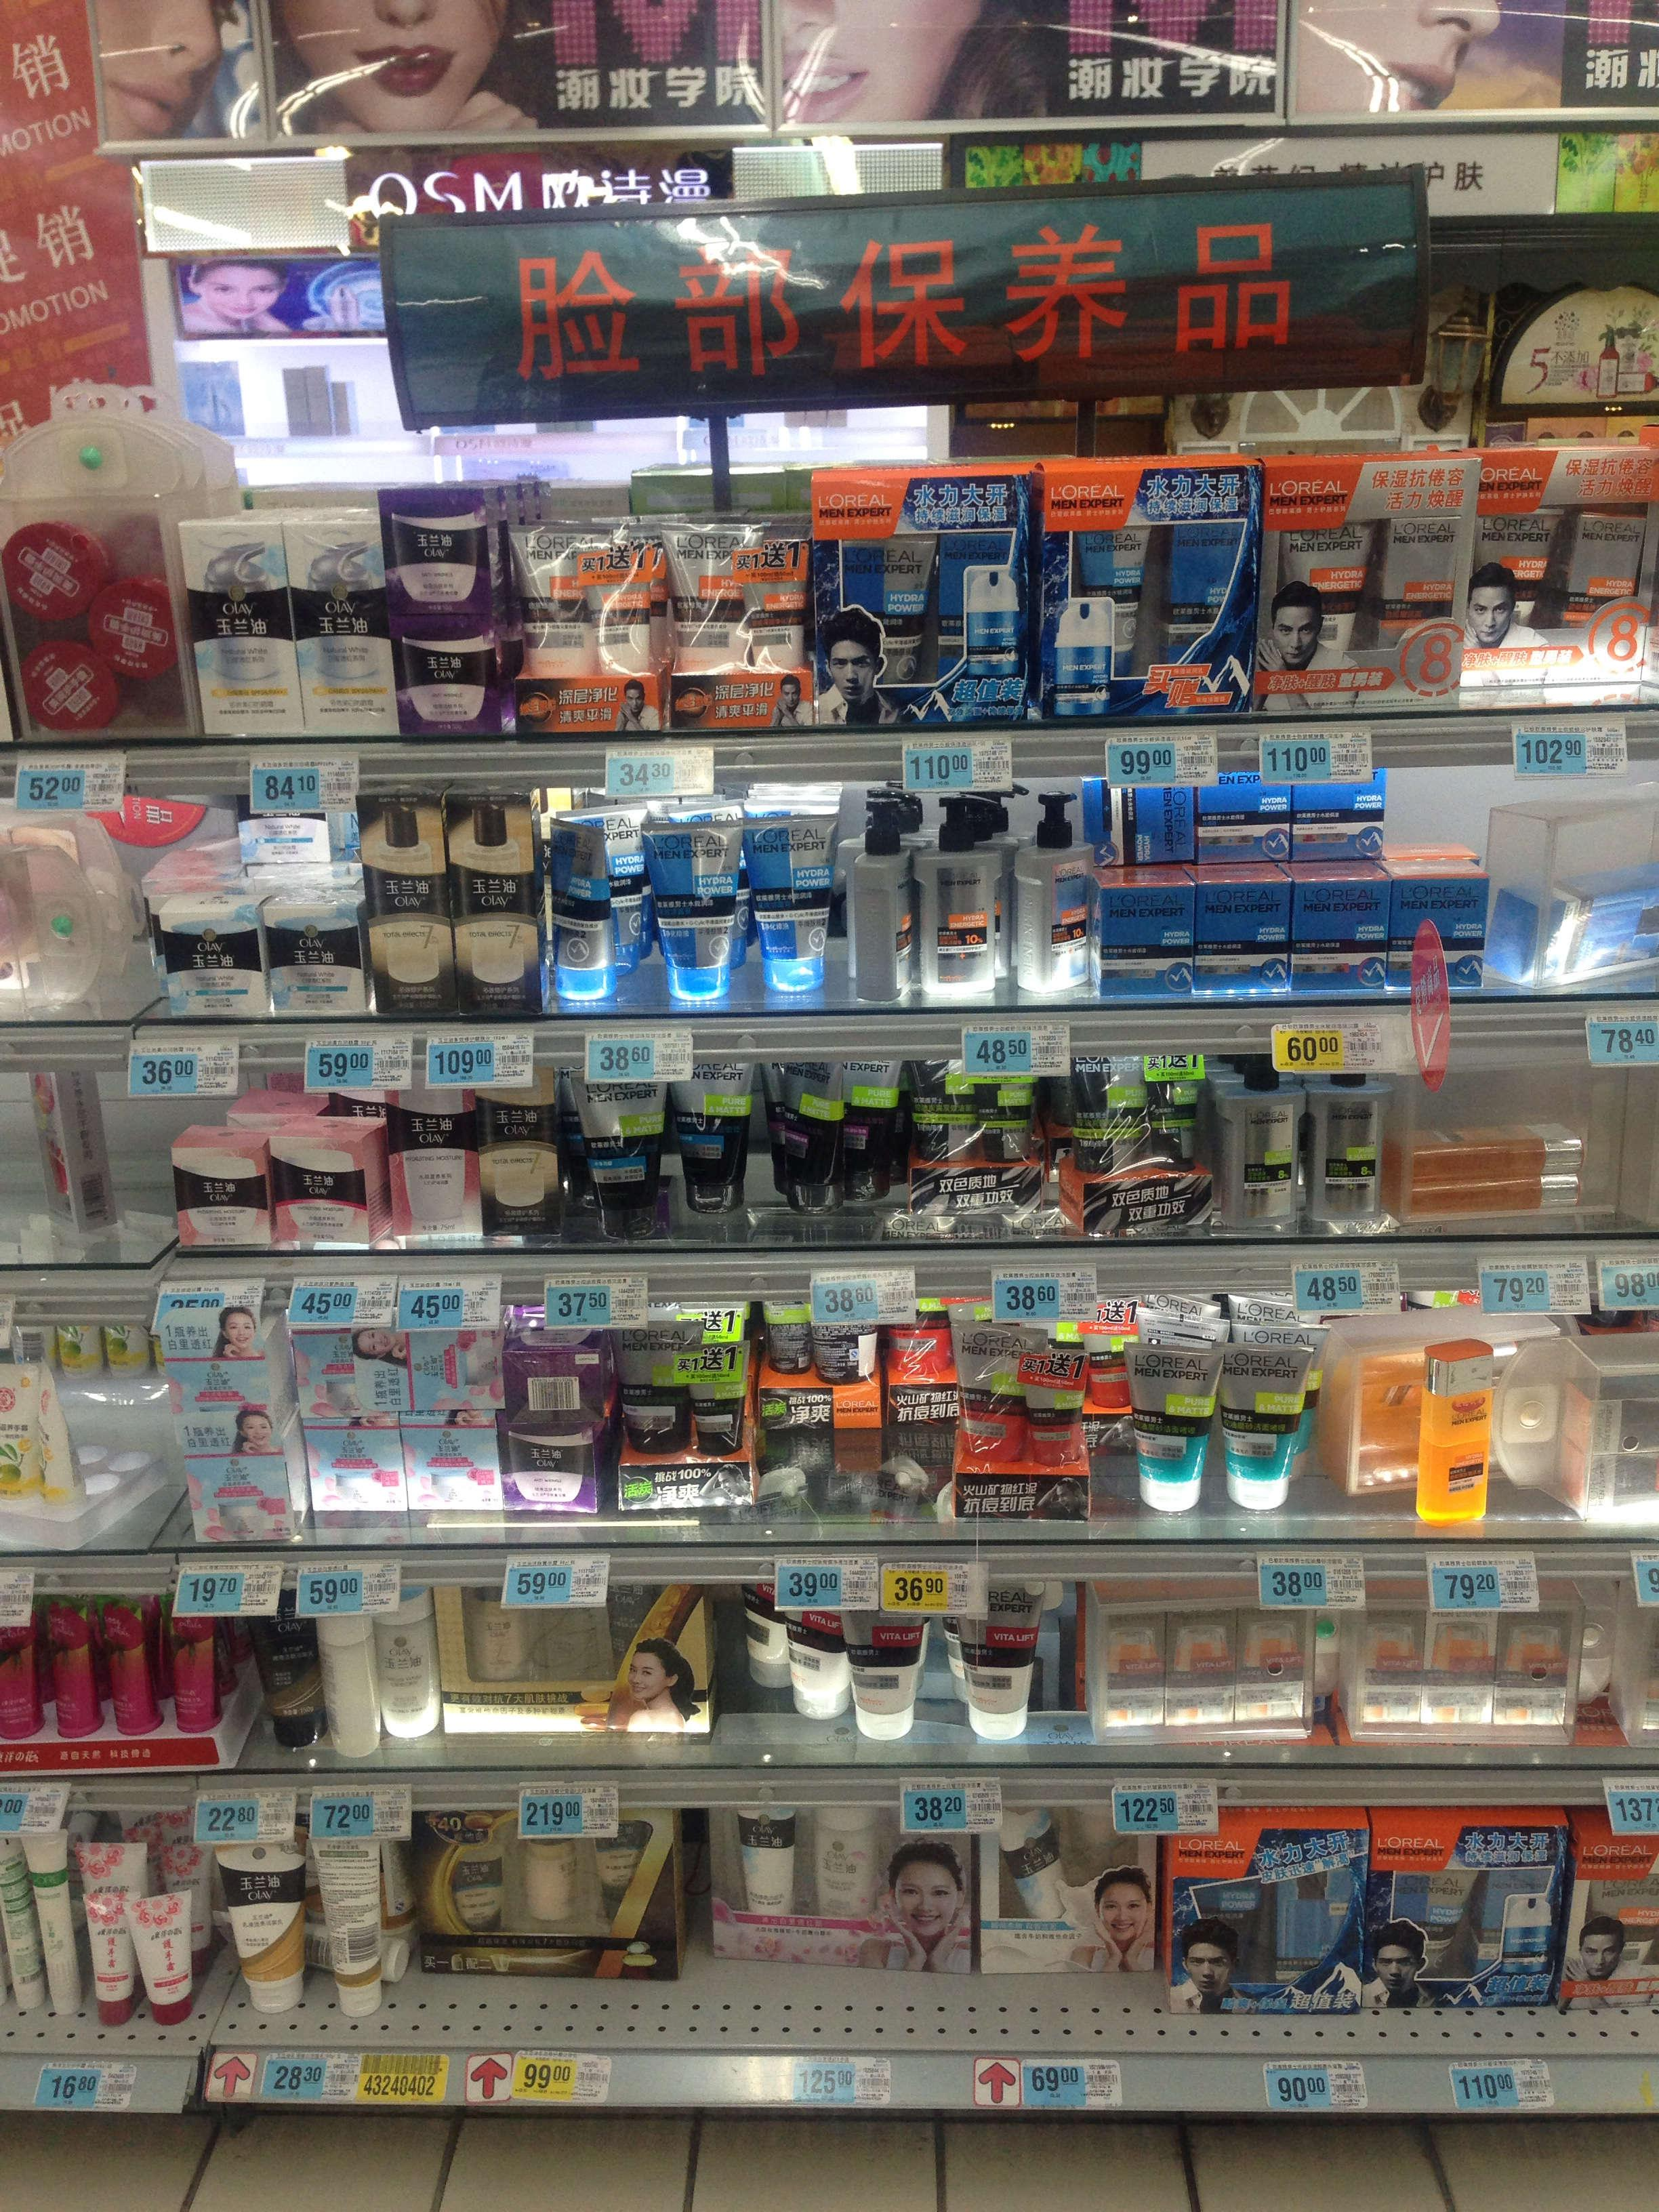misalignment: (1480, 779, 1659, 993), (0, 1353, 129, 1548), (1016, 791, 1091, 998), (734, 1588, 843, 1730), (538, 822, 619, 998), (849, 801, 911, 1001)
